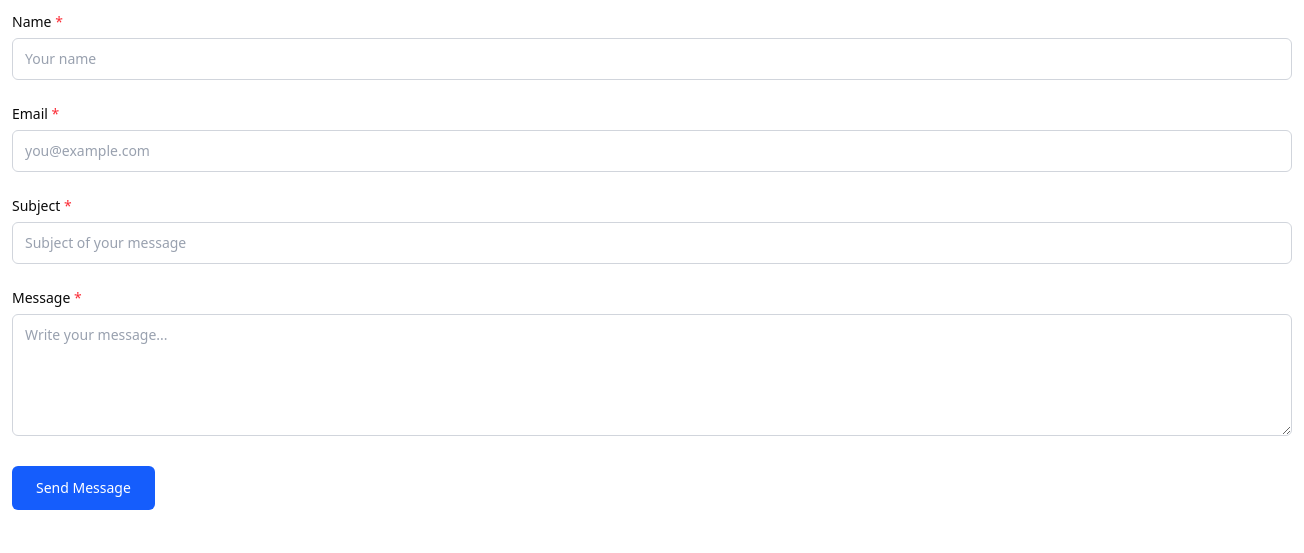
Scenario: ContactForm › shows minimum length error for short message
Step 1. Type "John Doe" into the field labelled "Name *" → [652, 59], box [12, 38, 1292, 80]
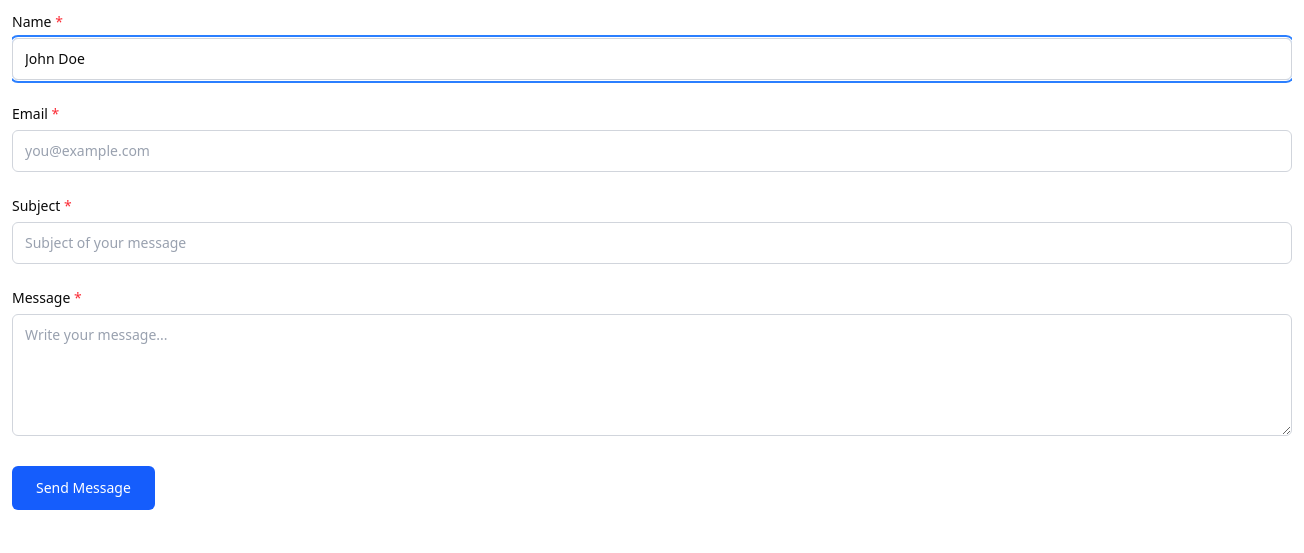
Step 2. Type "john@example.com" into the field labelled "Email *" → [652, 151], box [12, 130, 1292, 172]
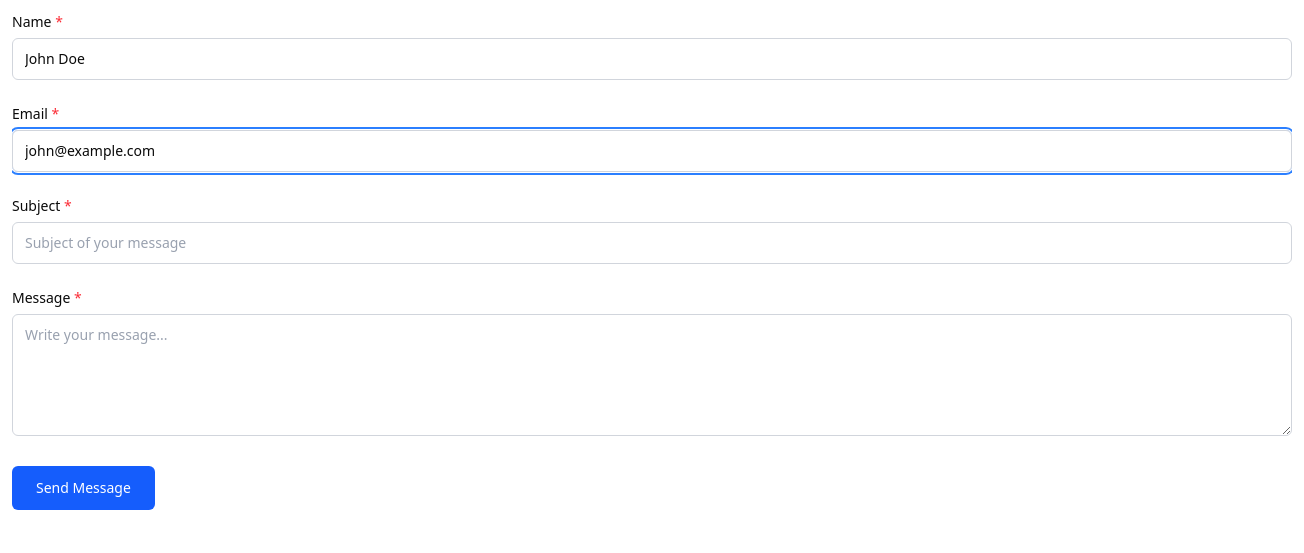
Step 3. Type "Hi" into the field labelled "Subject *" → [652, 243], box [12, 222, 1292, 264]
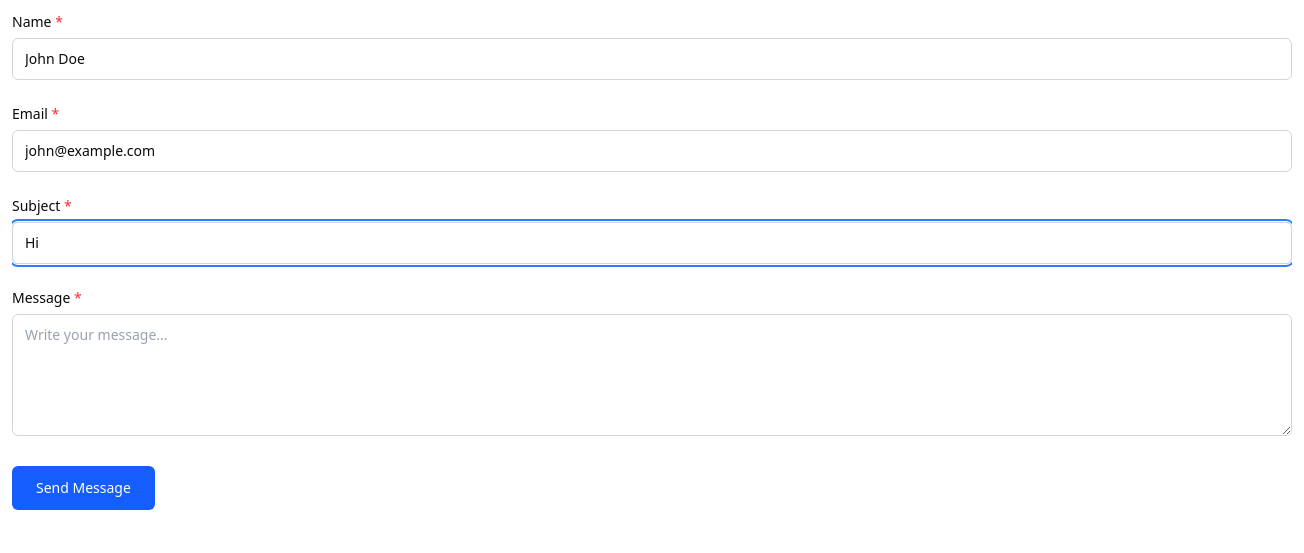
Step 4. Type "Short" into the text box labelled "Message *" → [652, 375], box [12, 314, 1292, 436]
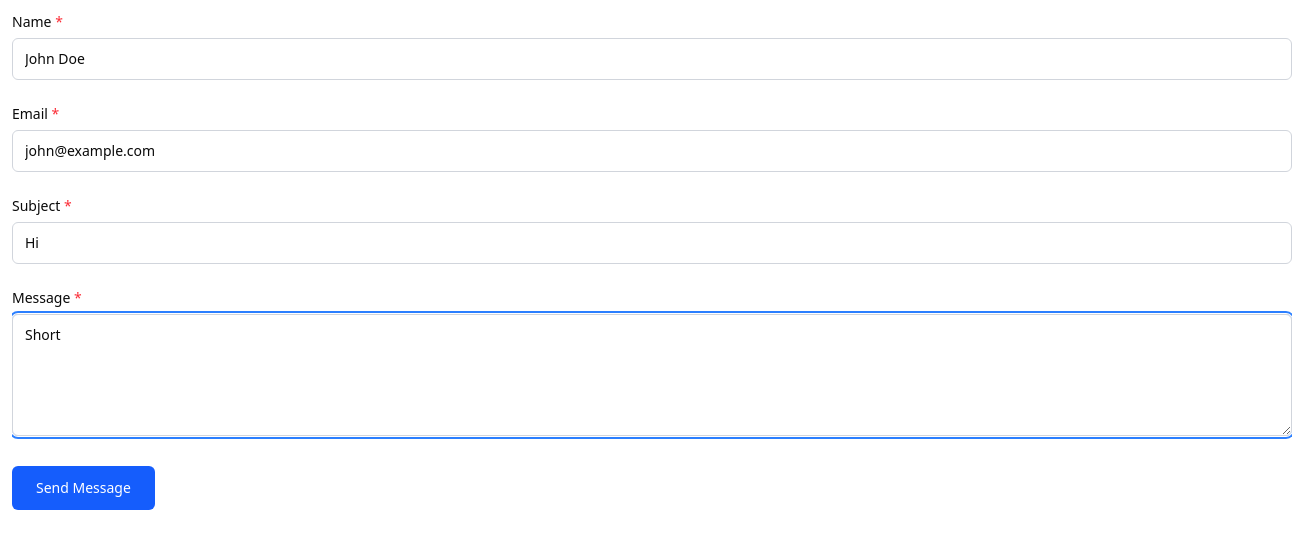
Step 5. Click the button "Send Message" → [83, 488], box [12, 466, 155, 510]
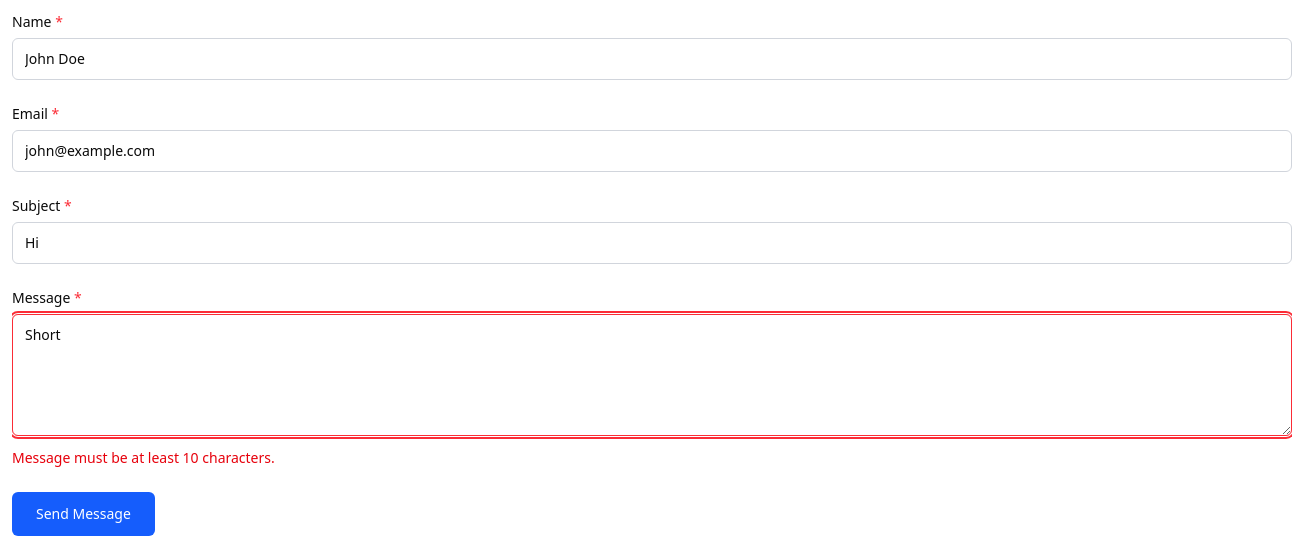
Now the text "Message must be at least 10 characters." is shown, box [12, 448, 275, 467]
